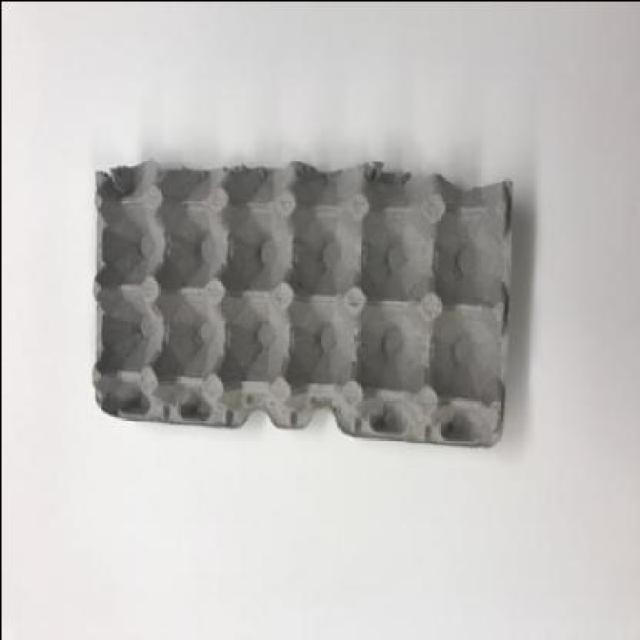CARDBOARD: (91, 160, 512, 451)
